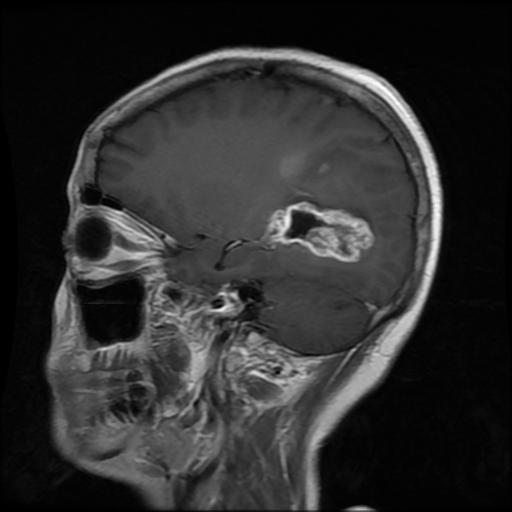Gliomia_tumour: (259, 200, 373, 261)
